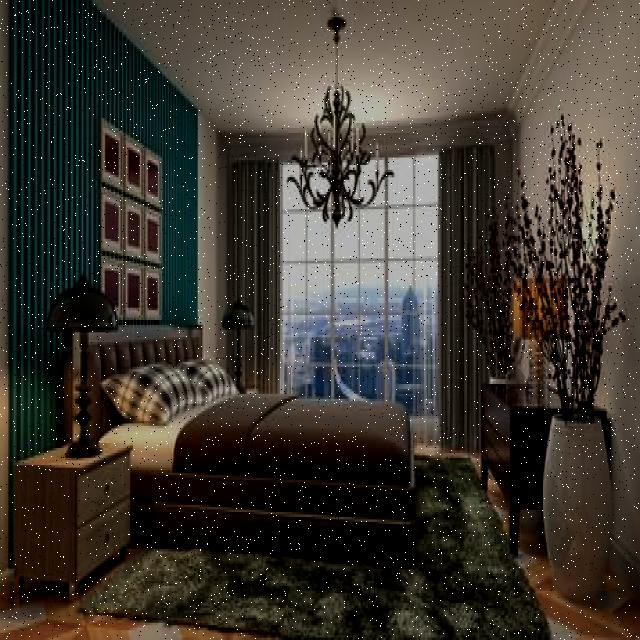bed: (111, 327, 414, 558)
